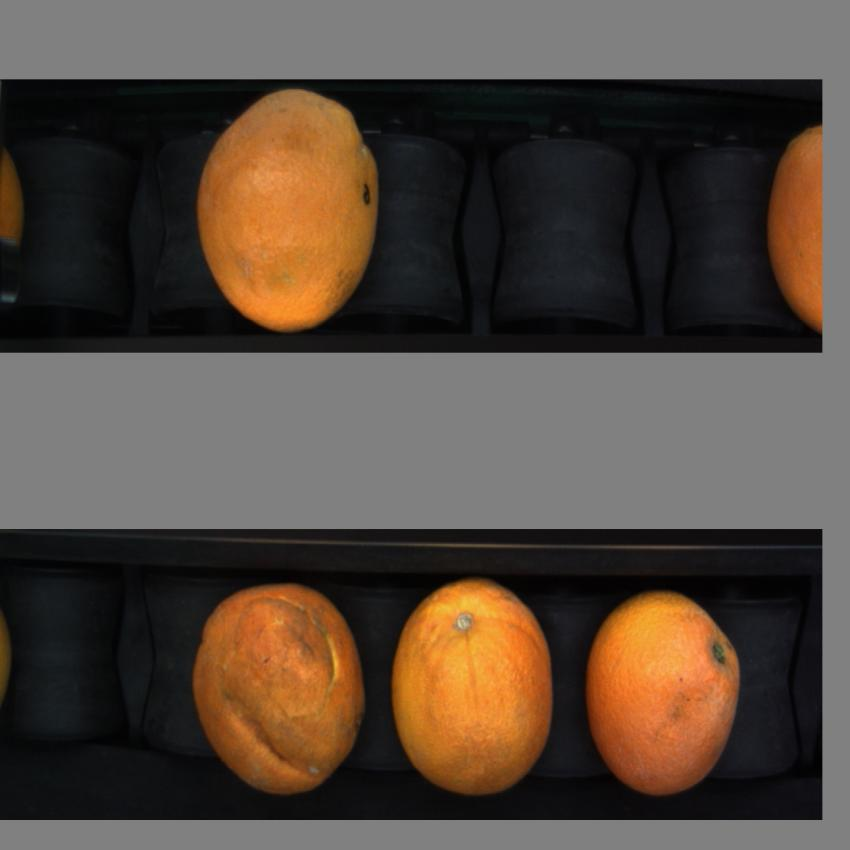Buen estado: (191, 88, 389, 331), (390, 582, 559, 795), (586, 588, 744, 798), (756, 113, 822, 339)
Mal estado: (191, 577, 371, 793)
